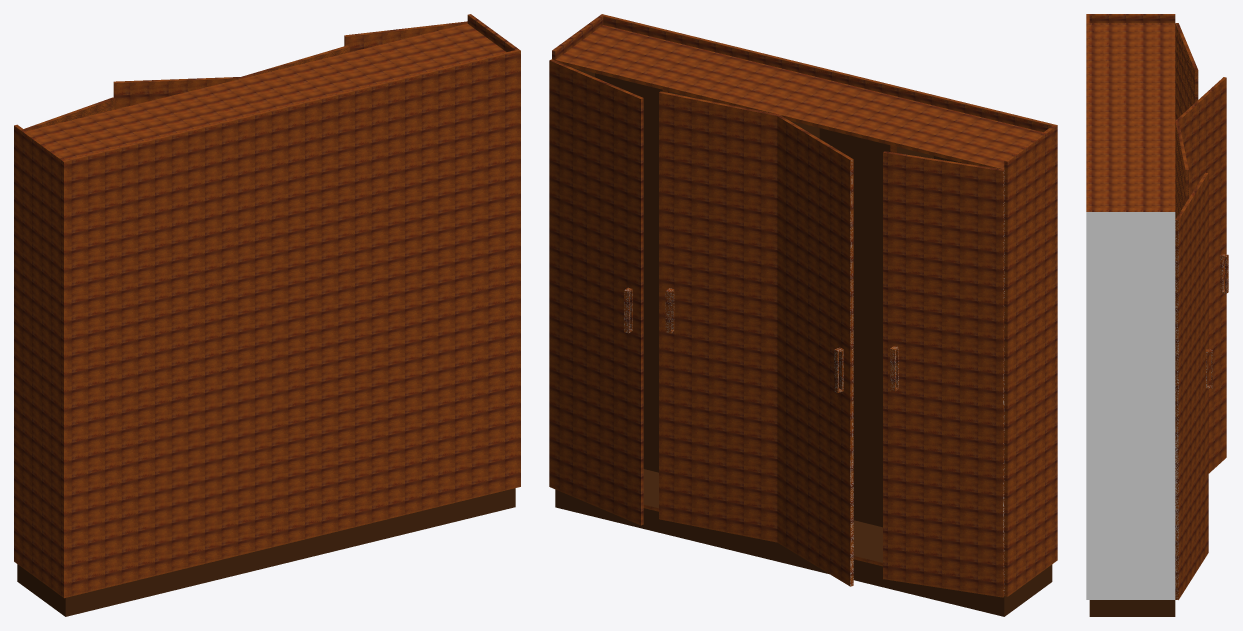
The picture shows the model from 3 angles, left to right: view 1: azimuth 30°, elevation 25°; view 2: azimuth 150°, elevation 25°; view 3: azimuth 270°, elevation 25°; orthographic projection. The views are drawn at different scales.
Parts seen in each view (by area): view 1: mesh1_mesh1-geometry, mesh2_mesh2-geometry; view 2: mesh1_mesh1-geometry, mesh2_mesh2-geometry; view 3: mesh1_mesh1-geometry, mesh2_mesh2-geometry.
Boxes of the visible parts, bbox=[...] form: mesh1_mesh1-geometry: bbox=[14, 14, 520, 616]; mesh2_mesh2-geometry: bbox=[24, 97, 115, 130]; mesh1_mesh1-geometry: bbox=[549, 14, 1057, 616]; mesh2_mesh2-geometry: bbox=[883, 151, 1004, 597]; mesh1_mesh1-geometry: bbox=[1086, 14, 1228, 616]; mesh2_mesh2-geometry: bbox=[1175, 23, 1198, 120].
Size of the model in its own units: 0.7066 by 0.6744 by 0.2141.
